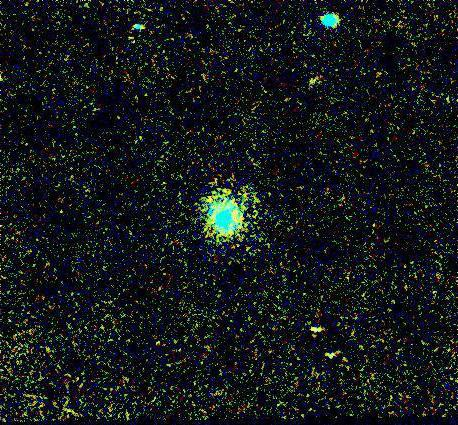star: (191, 181, 221, 211)
